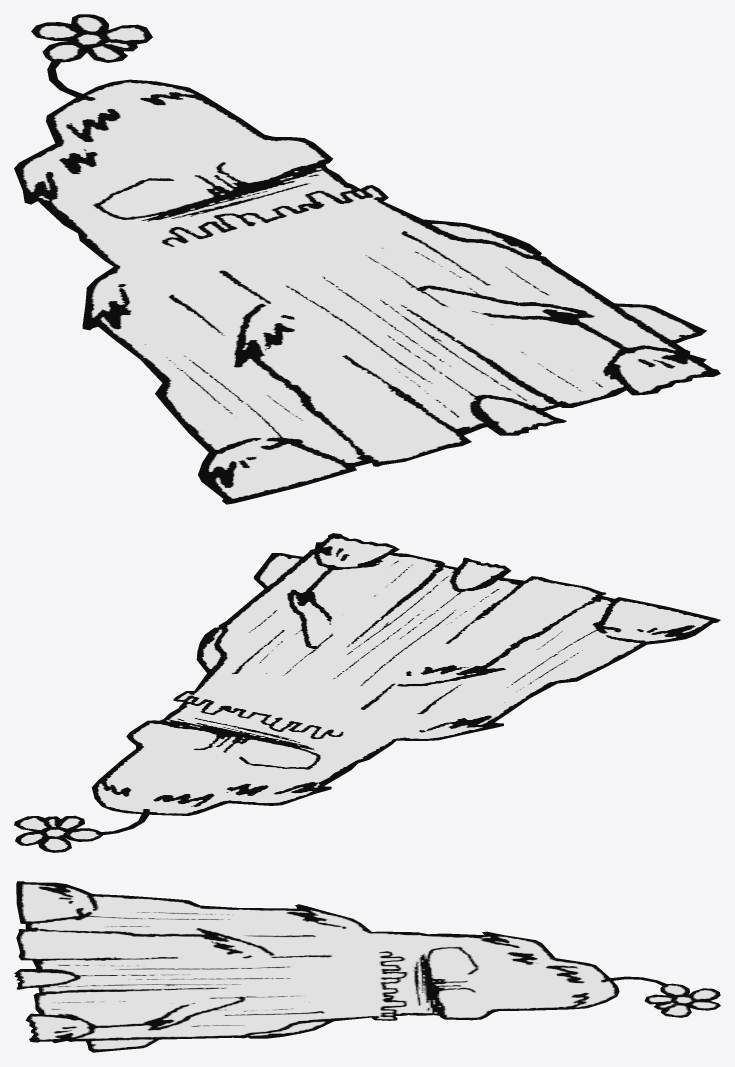
File: earthDemon.fbx
3 views of the same model, one above another, from view 1: azimuth 30°, elevation 25°; view 2: azimuth 150°, elevation 25°; view 3: azimuth 270°, elevation 25° (orthographic). The views are drawn at different scales.
Parts seen in each view (by area): view 1: earthDemon; view 2: earthDemon; view 3: earthDemon.
Boxes of the visible parts, <box> form: earthDemon: <box>14,14,720,504</box>; earthDemon: <box>14,533,720,852</box>; earthDemon: <box>14,881,720,1052</box>.
Size of the model in its own units: 4.42 by 3.85e-08 by 7.71.
1 material, 1 textured.
